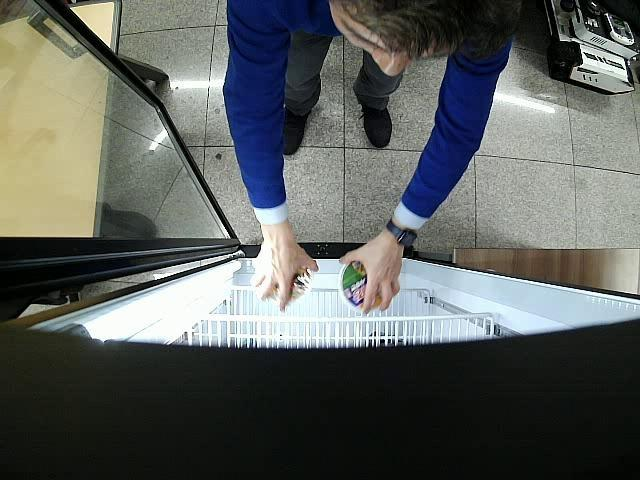09_yukGaeJang: (270, 267, 312, 304), (338, 260, 368, 310)
